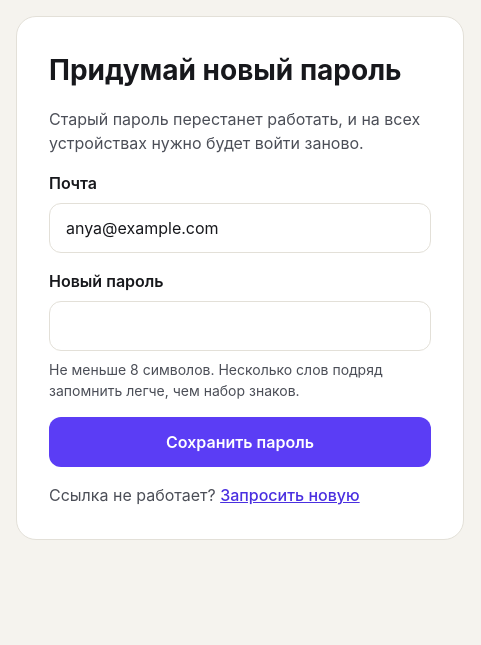
Scenario: ResetPasswordView › ошибка токена из ссылки — над формой: такого поля на экране нет
The width and height of the screenshot is (481, 645).
Type "новый пароль" into the password field labelled "Новый пароль" at (240,326), box [49,301,431,351]
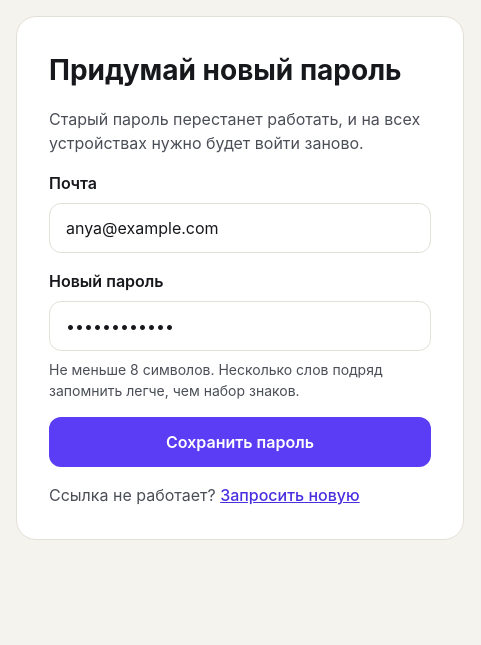
Submit the form, box [49,171,431,467]
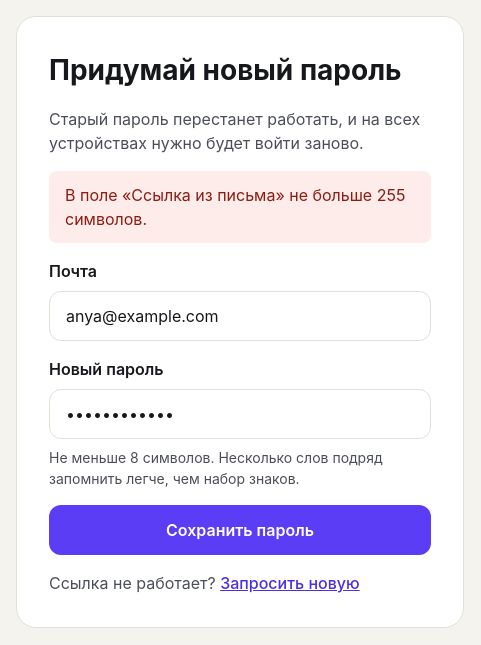
Check: the message "В поле «Ссылка из письма» не больше 255 символов." is shown, box [49,171,431,243]
